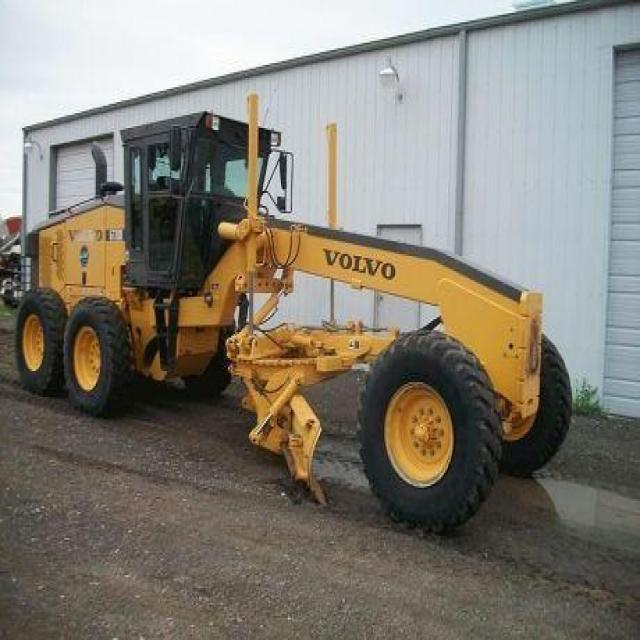Grader: (11, 102, 582, 540)
